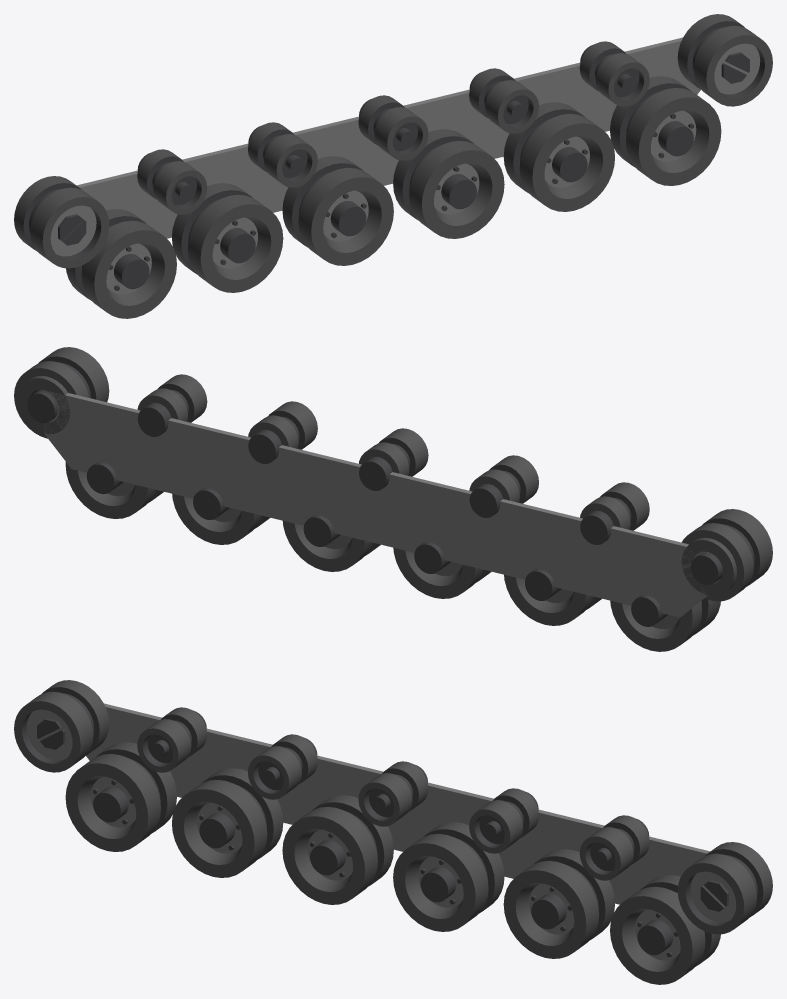
File: TankTrack_6W.fbx
The picture shows the model from 3 angles, top to bottom: view 1: azimuth 30°, elevation 25°; view 2: azimuth 150°, elevation 25°; view 3: azimuth 330°, elevation 25°; orthographic projection.
Visible parts, largest first — view 1: TankTrack_6W, TankTrack_6W_Frame; view 2: TankTrack_6W, TankTrack_6W_Frame; view 3: TankTrack_6W, TankTrack_6W_Frame.
Part boxes in pixels (x1=…): TankTrack_6W: x1=14, y1=14, x2=772, y2=318; TankTrack_6W_Frame: x1=76, y1=37, x2=700, y2=238; TankTrack_6W: x1=14, y1=347, x2=772, y2=651; TankTrack_6W_Frame: x1=44, y1=390, x2=708, y2=617; TankTrack_6W: x1=14, y1=680, x2=772, y2=984; TankTrack_6W_Frame: x1=86, y1=703, x2=710, y2=904.
Size of the model in its own units: 6.6 by 1.16 by 0.55.
Materials: 1 (1 with a texture image).
